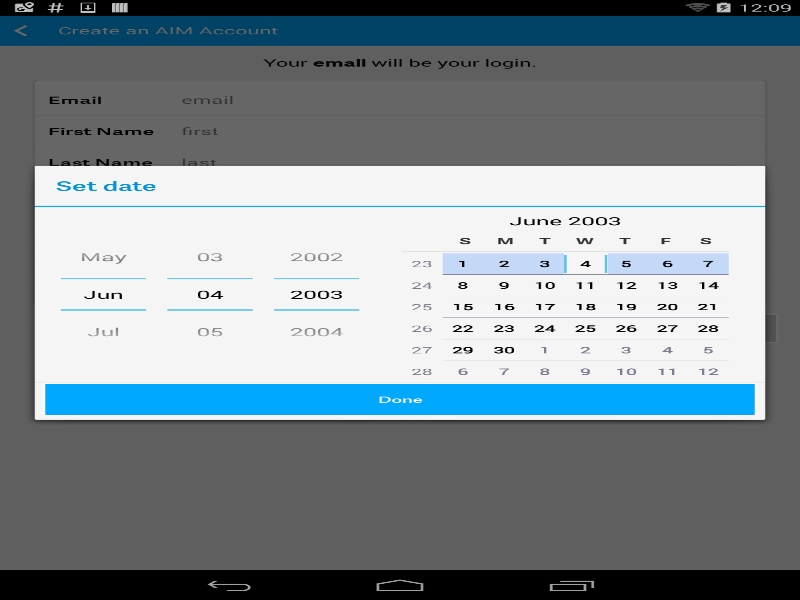Button: (42, 382, 757, 416), (60, 238, 146, 279), (60, 309, 146, 350), (167, 238, 252, 279), (167, 309, 252, 350), (274, 238, 359, 279), (274, 309, 359, 350)
Input: (60, 279, 146, 309), (167, 279, 252, 309), (274, 279, 359, 309)
